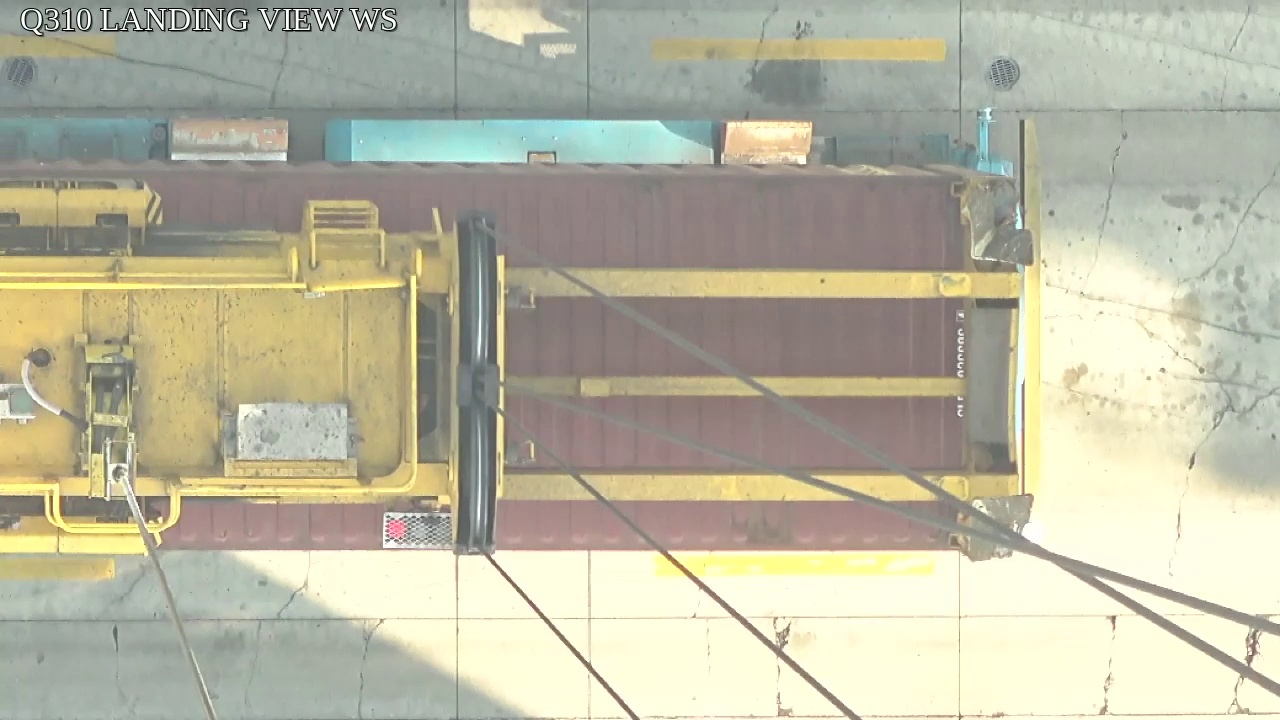right: (444, 216, 503, 558)
